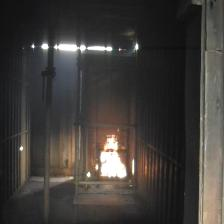fire: (102, 135, 128, 179)
